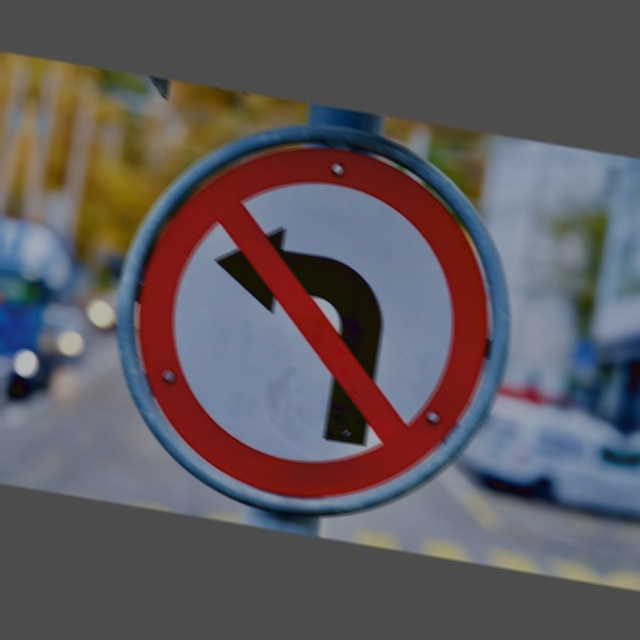Left_Turn_Prohibited: (90, 96, 538, 537)
